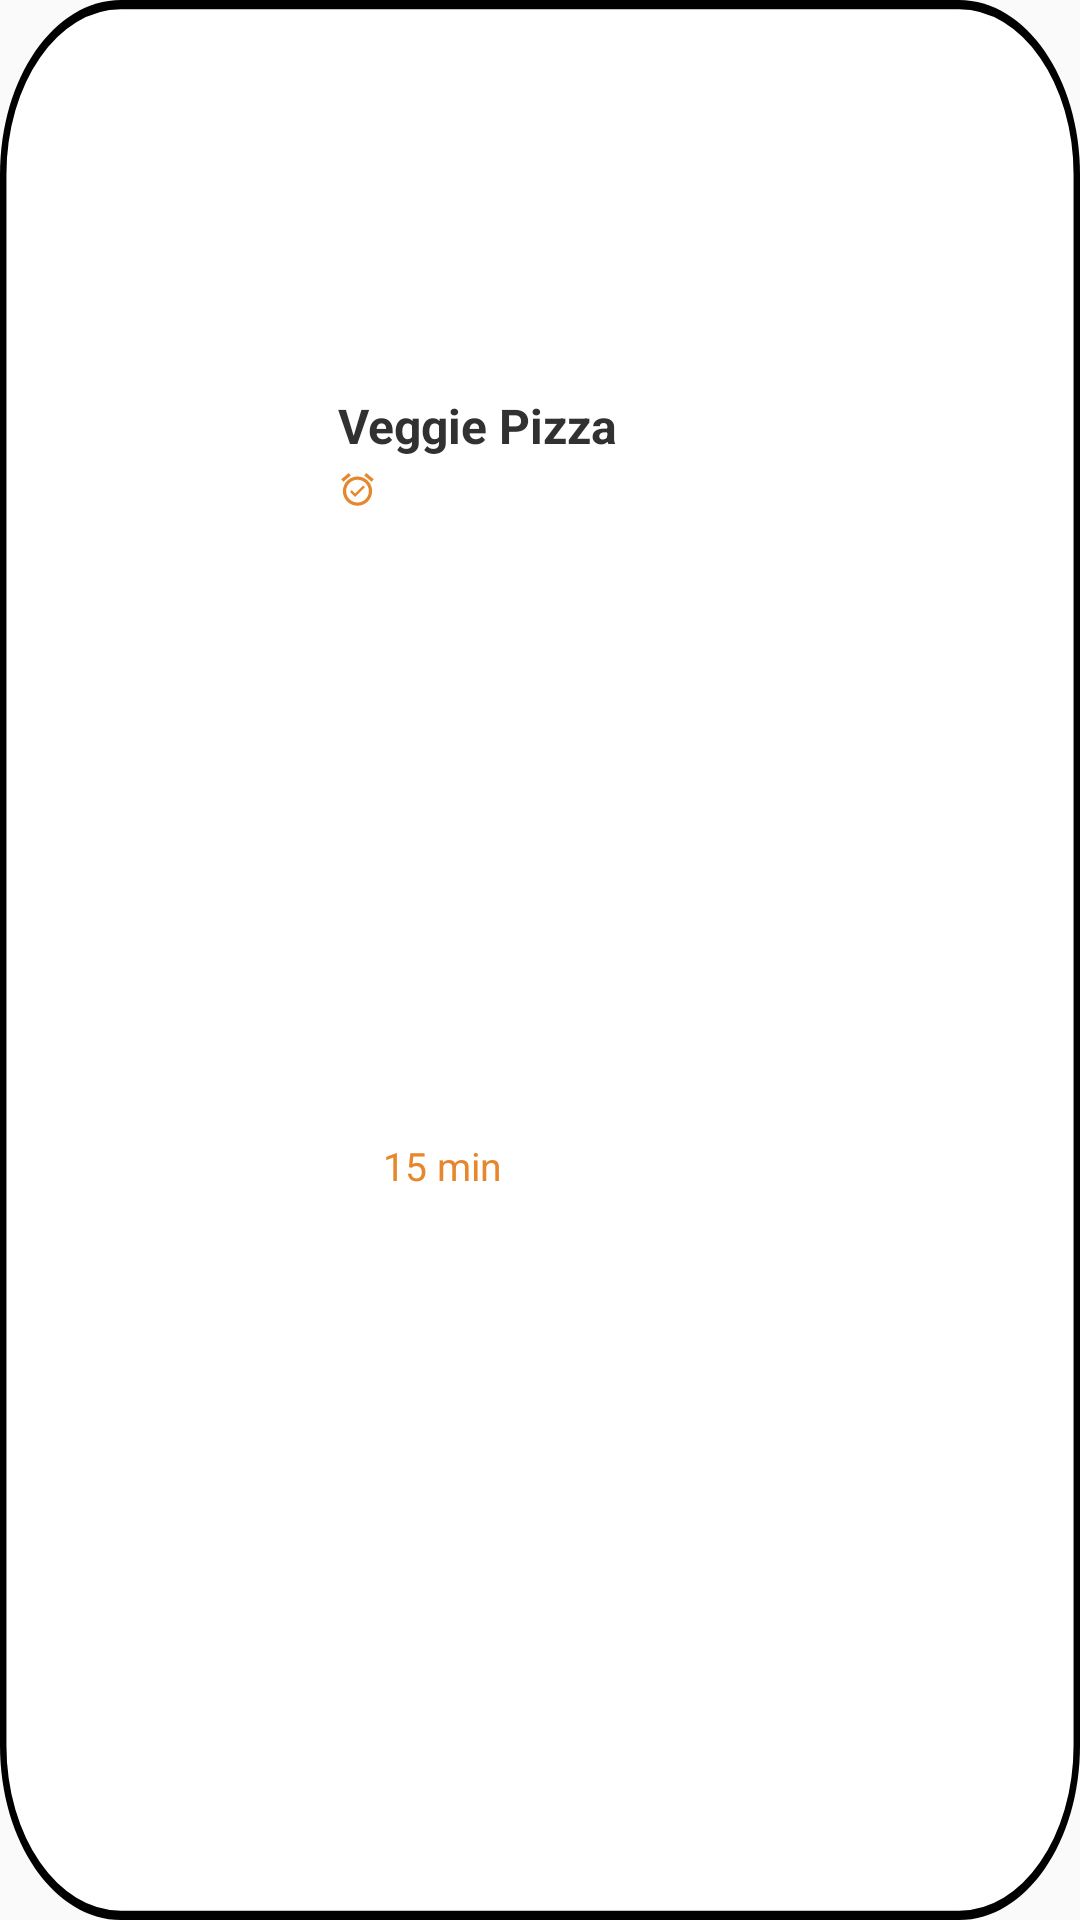

Named icons in this screenshot (1080 x 1920) and their centers, [x,y]:
alarm on: [357,489]
